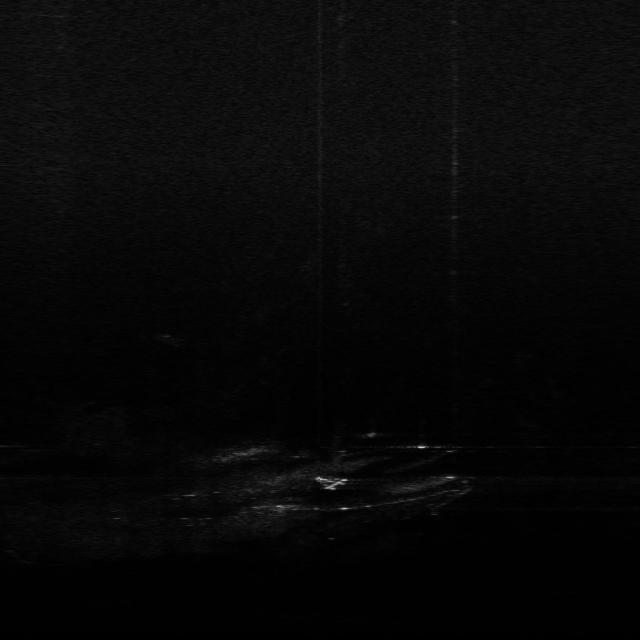rov: (312, 471, 352, 492)
